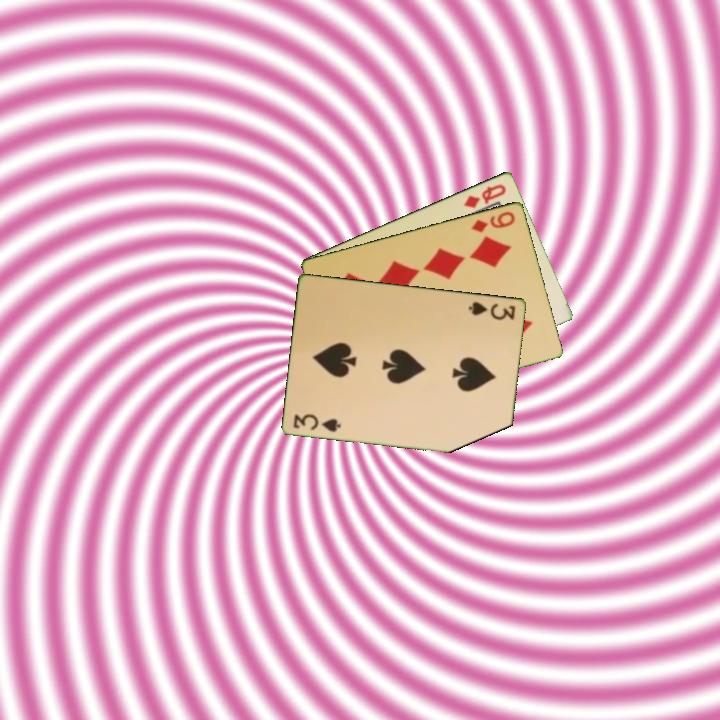3s: (290, 410, 344, 435), (465, 298, 518, 322)
9d: (468, 207, 518, 235)
Qd: (460, 180, 509, 211)
